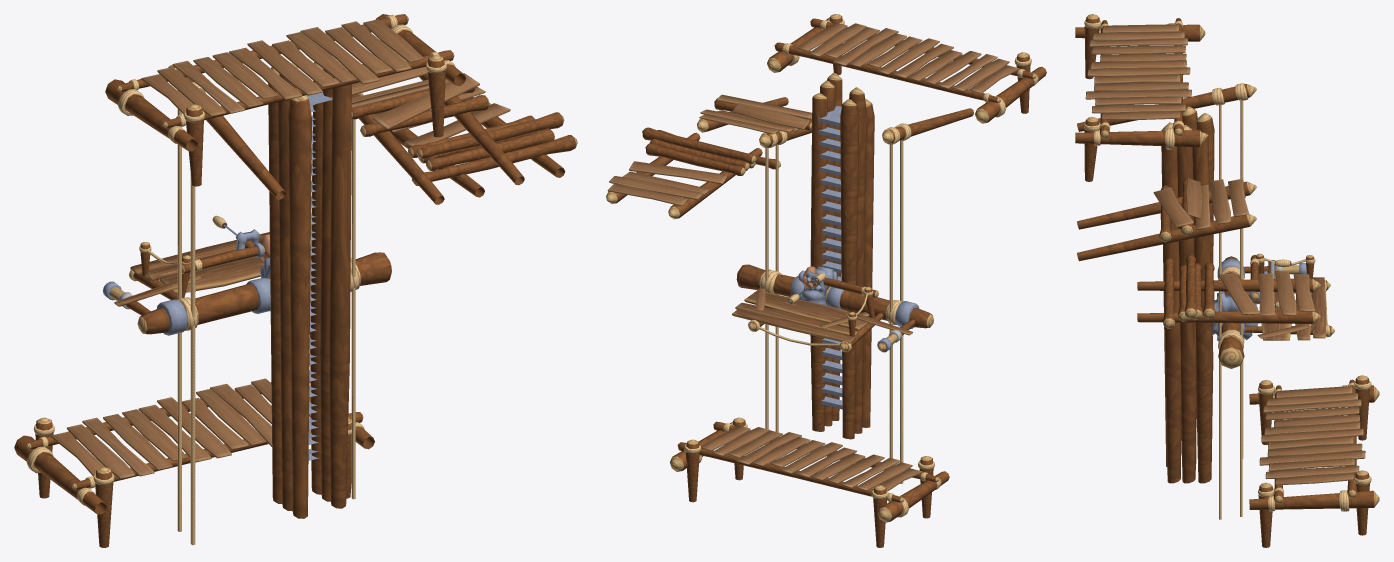
Rendered from Crankshaft_Full.fbx.
3 renders of one model, left to right at view 1: azimuth 30°, elevation 25°; view 2: azimuth 150°, elevation 25°; view 3: azimuth 270°, elevation 25°, orthographic. The views are drawn at different scales.
Visible parts, largest first — view 1: polySurface1155; view 2: polySurface1155; view 3: polySurface1155.
Boxes of the visible parts, bbox=[...] form: polySurface1155: bbox=[14, 14, 577, 547]; polySurface1155: bbox=[606, 14, 1046, 547]; polySurface1155: bbox=[1075, 14, 1379, 547].
Bounding box in the file's own units: 115 × 129 × 82.91.
